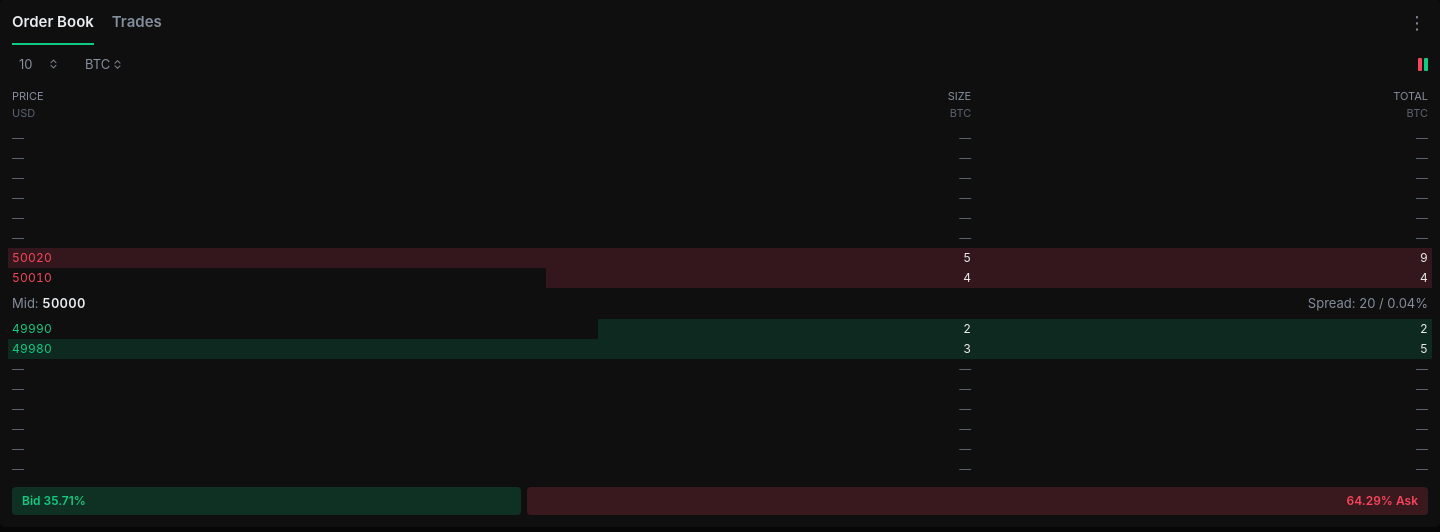
server-grouped ladders › OPENS on the server ladder, not the sparse raw book
The width and height of the screenshot is (1440, 532).
Expected: the text "49990" is shown, [12,321,52,336]
Expected: the text "49980" is shown, [12,341,52,356]
Select "0.01" in the dropdown with test id "orderbook-grouping" at (37, 64), box [12,52,62,76]
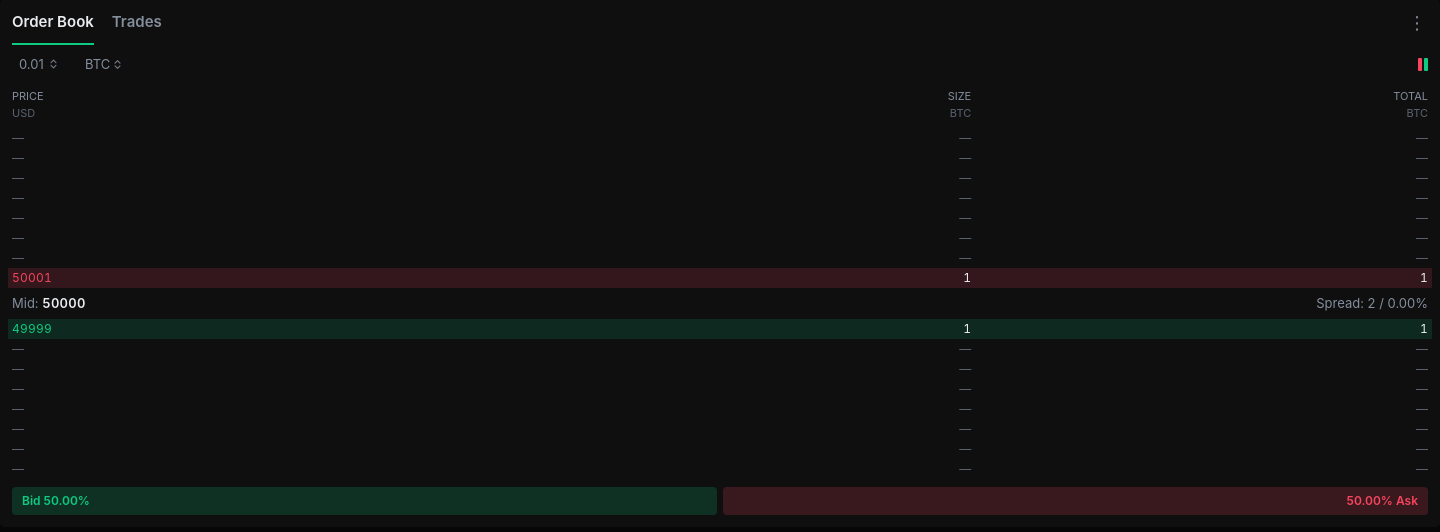
Expected: the text "49999" is shown, [12,321,52,336]
